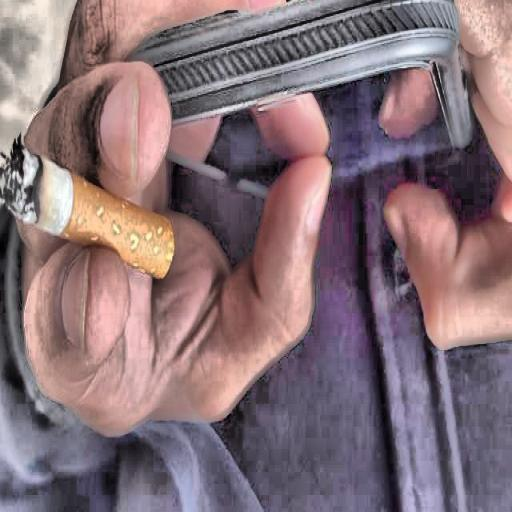Merokok: (0, 138, 175, 279)
